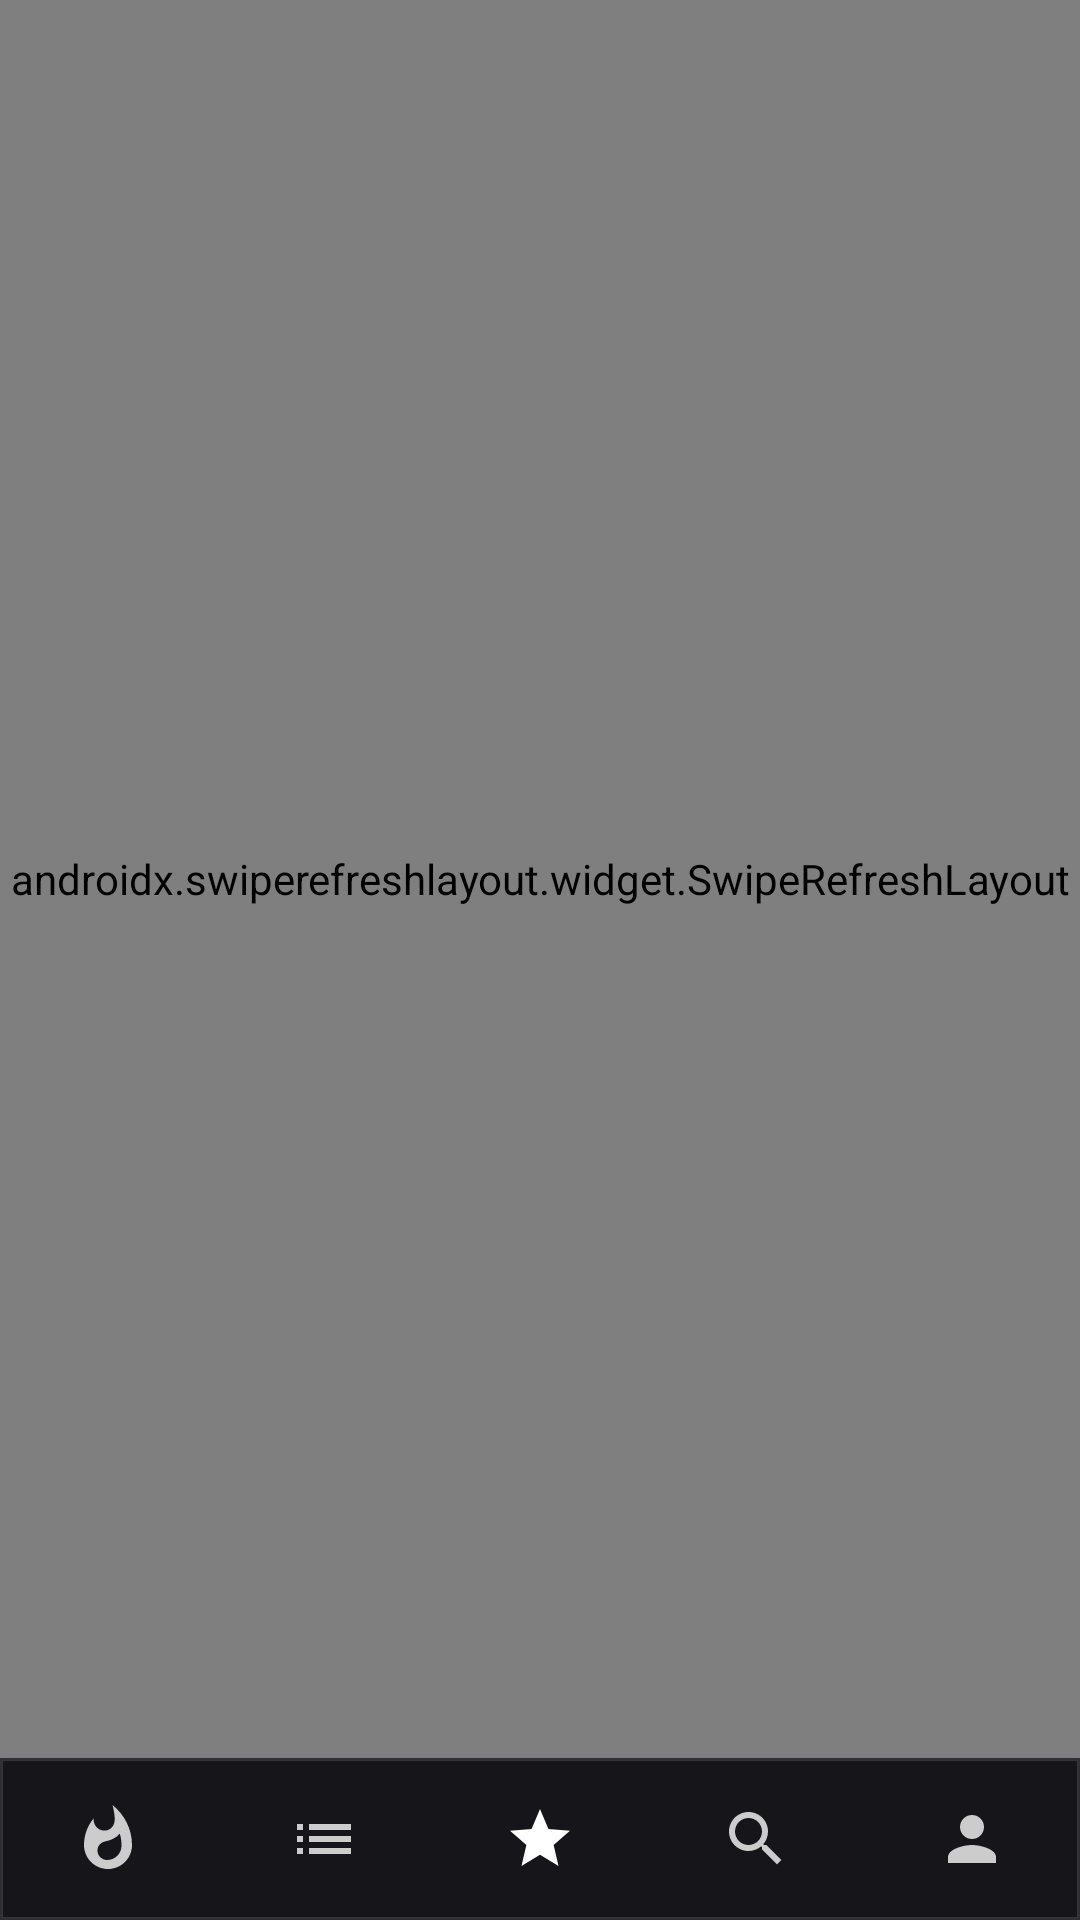

Screen size 1080px×1920px. Icon name, then its center in pixels as (x,y):
我的: (972,1839)
搜索: (756,1839)
最新: (324,1839)
